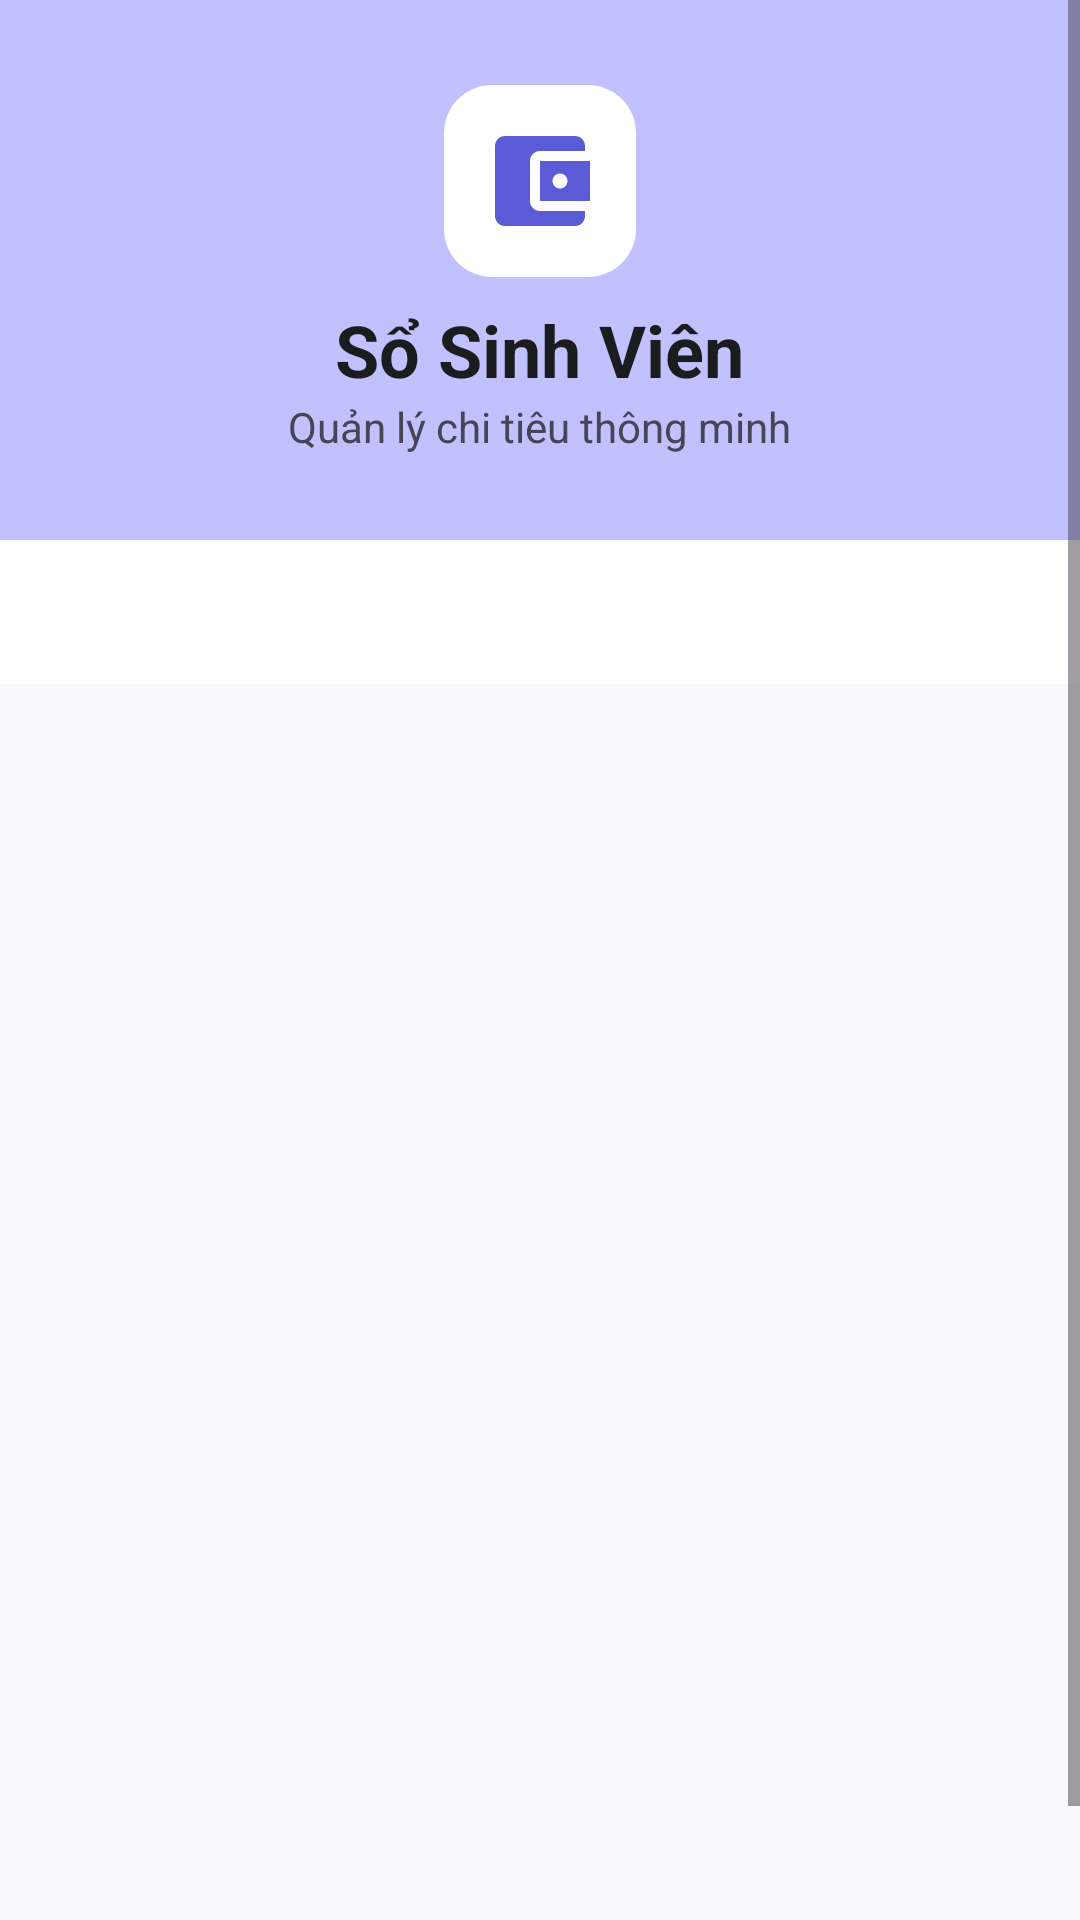

Icons on this 1080×1920 Android screen, each with its box as (x1, y1, x2, y2):
wallet: (444, 85, 636, 277)
